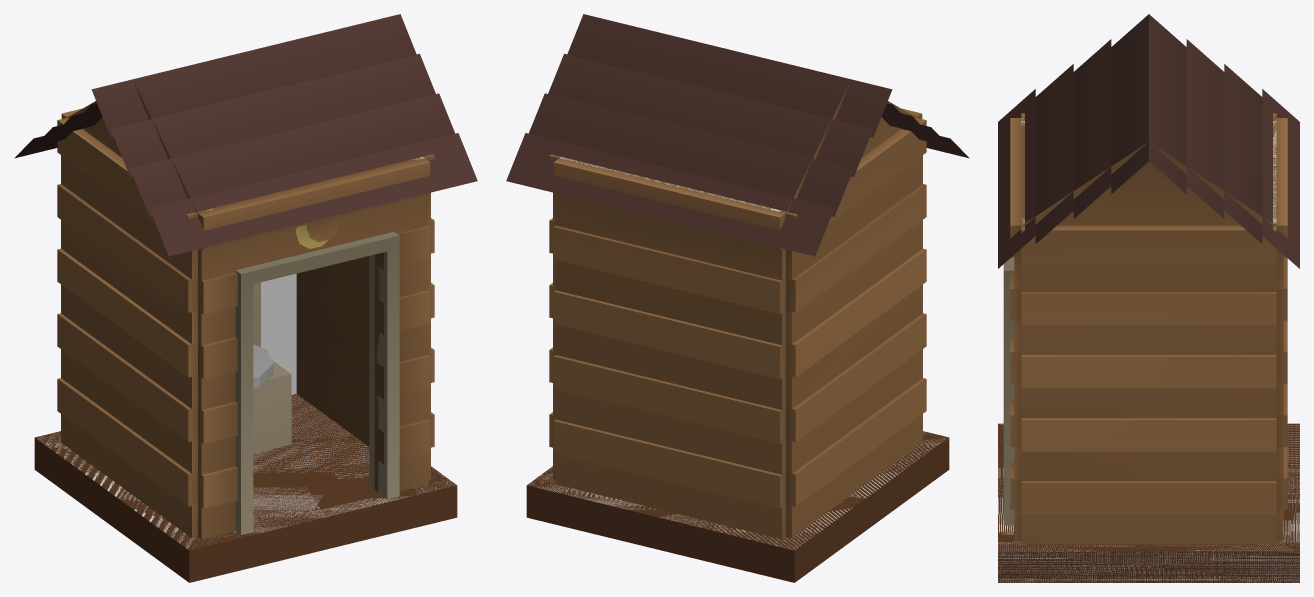
Rendered from outhouse.glb.
3 renders of one model, left to right at view 1: azimuth 30°, elevation 25°; view 2: azimuth 150°, elevation 25°; view 3: azimuth 270°, elevation 25°, orthographic. The views are drawn at different scales.
Visible parts, largest first — view 1: outhouse, COL_0, COL_1; view 2: outhouse, COL_0; view 3: outhouse, COL_0.
Boxes of the visible parts, x1=… form: outhouse: x1=14, y1=14, x2=477, y2=582; COL_0: x1=38, y1=395, x2=456, y2=548; COL_1: x1=261, y1=273, x2=296, y2=394; outhouse: x1=506, y1=14, x2=969, y2=582; COL_0: x1=529, y1=432, x2=944, y2=549; outhouse: x1=998, y1=14, x2=1299, y2=582; COL_0: x1=998, y1=424, x2=1299, y2=582.
Bounding box in the file's own units: 3 × 4.1 × 2.6.
